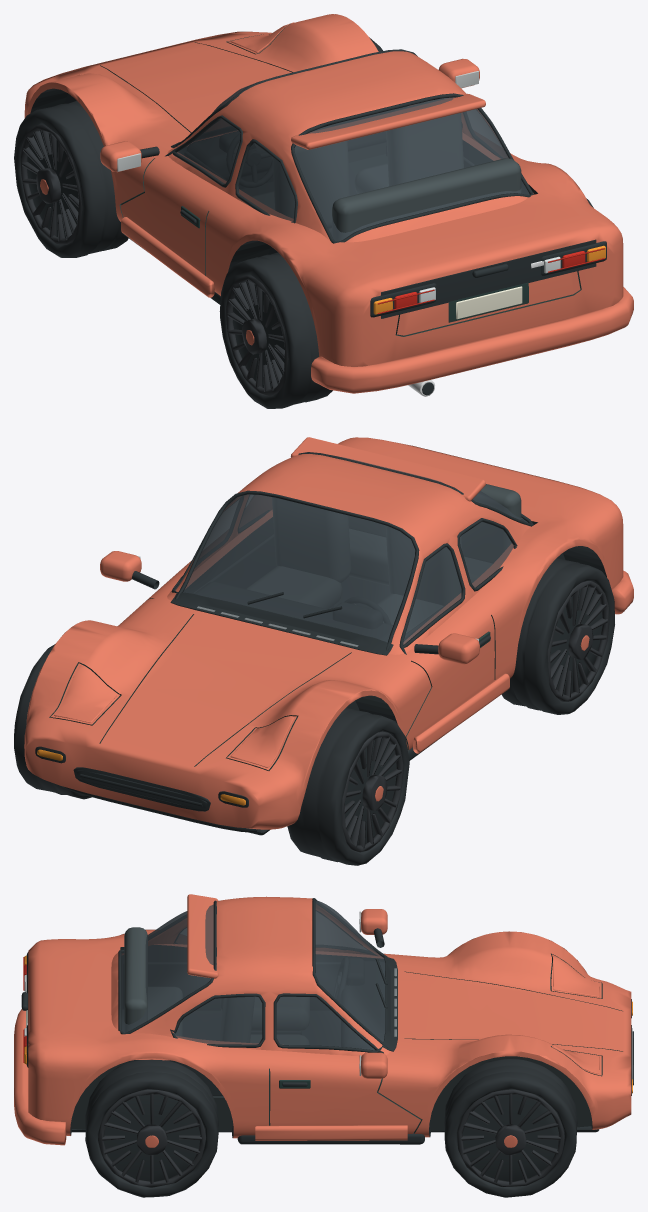
The model's file is yoru_lod2.fbx.
3 renders of one model, top to bottom at view 1: azimuth 30°, elevation 25°; view 2: azimuth 150°, elevation 25°; view 3: azimuth 270°, elevation 25°, orthographic. The views are drawn at different scales.
Parts seen in each view (by area): view 1: Body, Wheel_FL_Mesh, Wheel_RL_Mesh; view 2: Body, Wheel_FL_Mesh, Wheel_RL_Mesh, Wheel_FR_Mesh; view 3: Body, Wheel_RR_Mesh, Wheel_FR_Mesh.
Boxes of the visible parts, box(x1,y1,x2,y2) form: Body: box(24, 14, 633, 396); Wheel_FL_Mesh: box(14, 101, 128, 257); Wheel_RL_Mesh: box(219, 252, 332, 408); Body: box(24, 437, 633, 835); Wheel_FL_Mesh: box(287, 707, 409, 865); Wheel_RL_Mesh: box(501, 558, 614, 714); Wheel_FR_Mesh: box(14, 644, 91, 799); Body: box(14, 894, 633, 1145); Wheel_RR_Mesh: box(85, 1060, 218, 1197); Wheel_FR_Mesh: box(444, 1058, 577, 1197).
Bounding box in the file's own units: 234 × 142 × 391.
